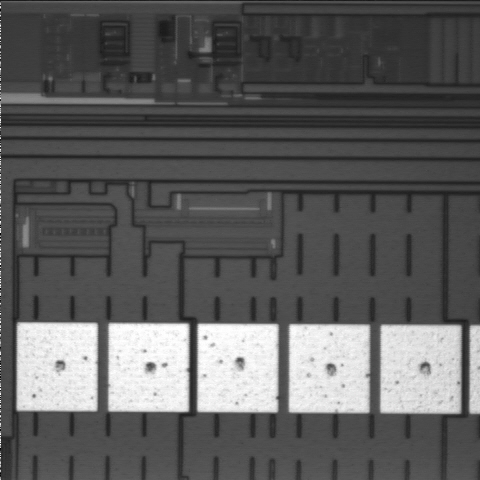pad: (108, 323, 189, 412), (289, 324, 370, 413), (17, 323, 98, 411), (197, 324, 278, 412), (380, 325, 461, 413)
